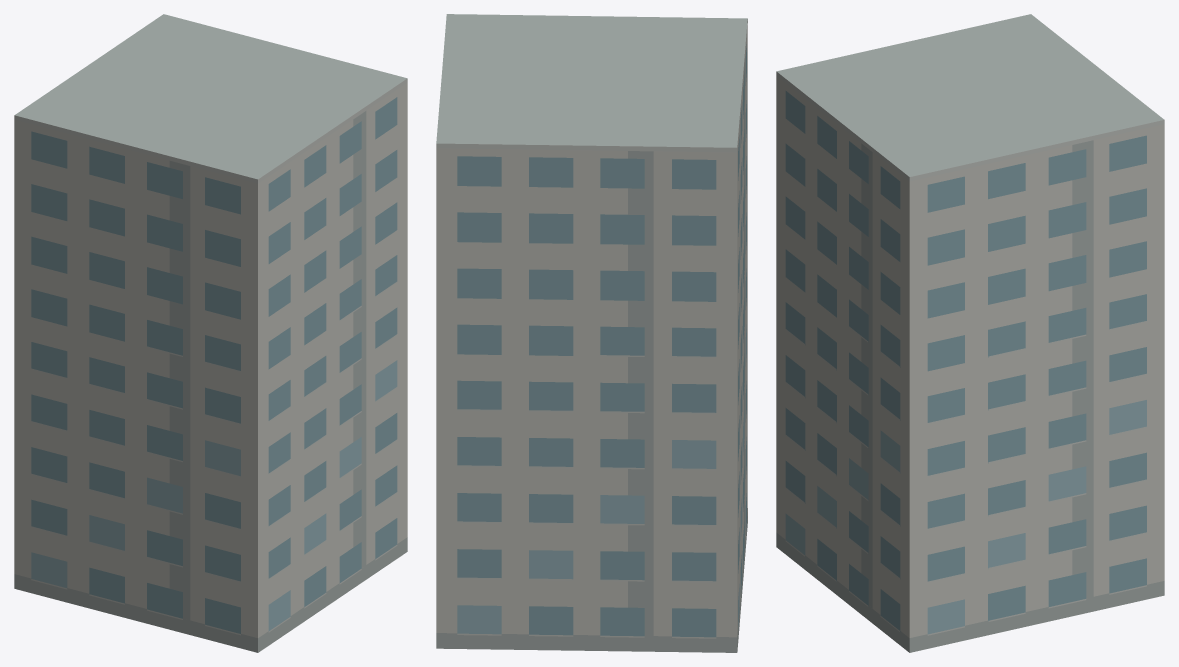
The model's file is residential-d6aafb3d-7617-4f6b-8178-a41174c98e01.glb.
3 views of the same model, side by side, from view 1: azimuth 30°, elevation 25°; view 2: azimuth 150°, elevation 25°; view 3: azimuth 270°, elevation 25° (orthographic). The views are drawn at different scales.
Visible parts, largest first — view 1: residential-d6aafb3d-7617-4f6b-8178-a41174c98e01.tmp; view 2: residential-d6aafb3d-7617-4f6b-8178-a41174c98e01.tmp; view 3: residential-d6aafb3d-7617-4f6b-8178-a41174c98e01.tmp.
Boxes of the visible parts, x1,y1,x2,y2 form: residential-d6aafb3d-7617-4f6b-8178-a41174c98e01.tmp: (14, 14, 407, 652); residential-d6aafb3d-7617-4f6b-8178-a41174c98e01.tmp: (436, 14, 747, 652); residential-d6aafb3d-7617-4f6b-8178-a41174c98e01.tmp: (776, 14, 1164, 652).
Bounding box in the file's own units: 19.13 × 26 × 19.24.
